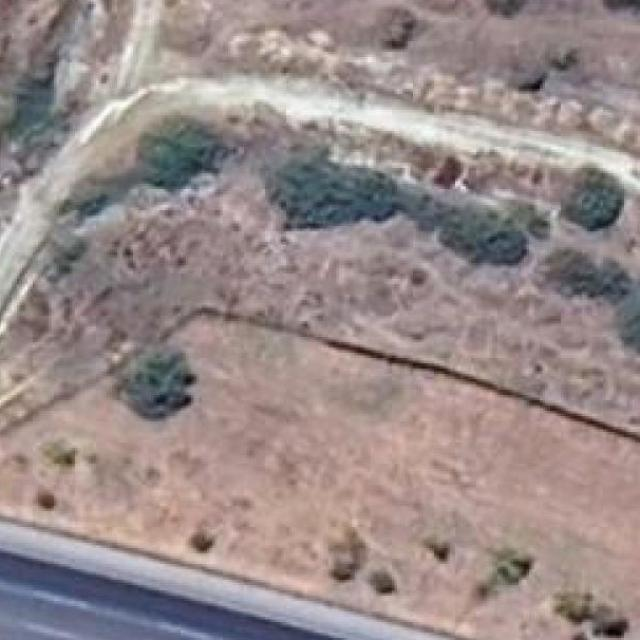Tree: (265, 146, 394, 238), (404, 192, 532, 264), (132, 112, 233, 188), (120, 348, 197, 417), (558, 168, 626, 226), (531, 245, 595, 297), (585, 250, 635, 308), (478, 552, 540, 590), (376, 1, 418, 50), (619, 277, 640, 361), (506, 59, 547, 94), (594, 604, 632, 640), (478, 0, 532, 23), (366, 567, 400, 601), (188, 522, 220, 556), (562, 587, 592, 622), (544, 44, 577, 73), (408, 0, 462, 17), (36, 490, 61, 521)
